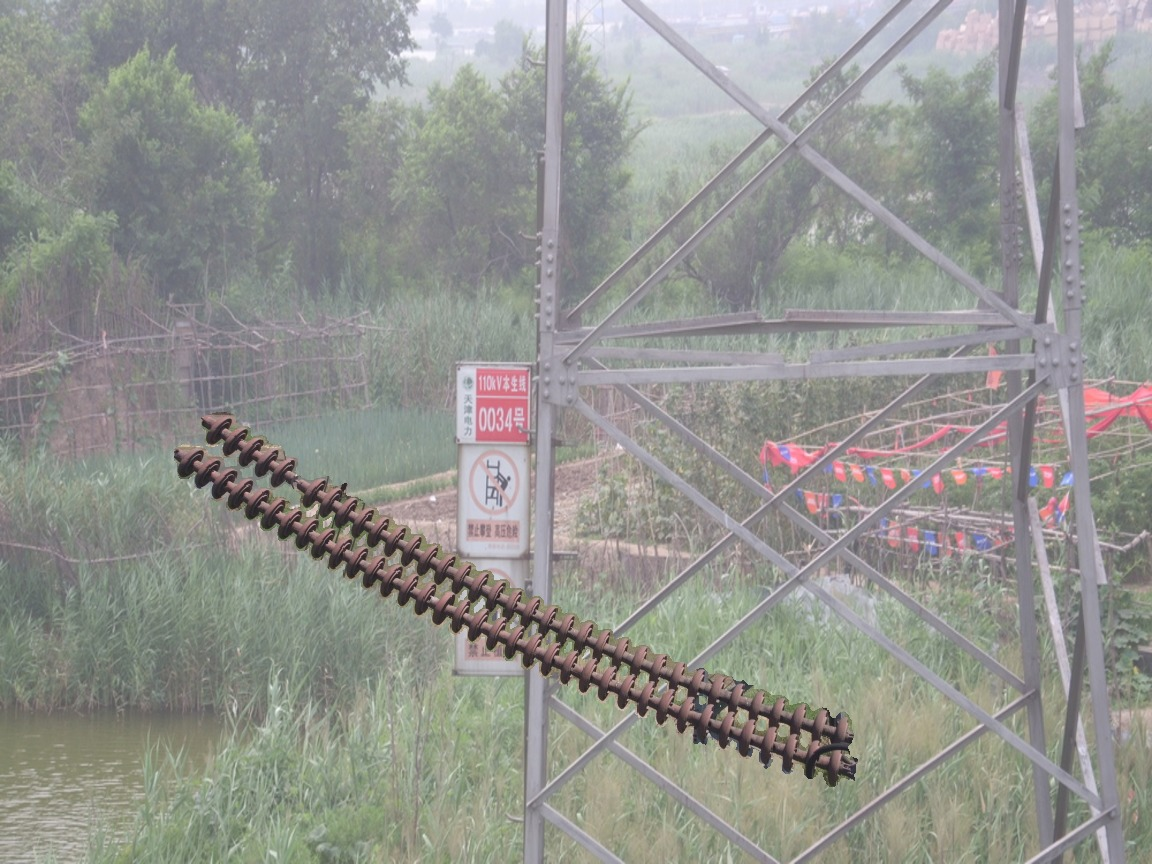defect: (267, 455, 330, 507)
